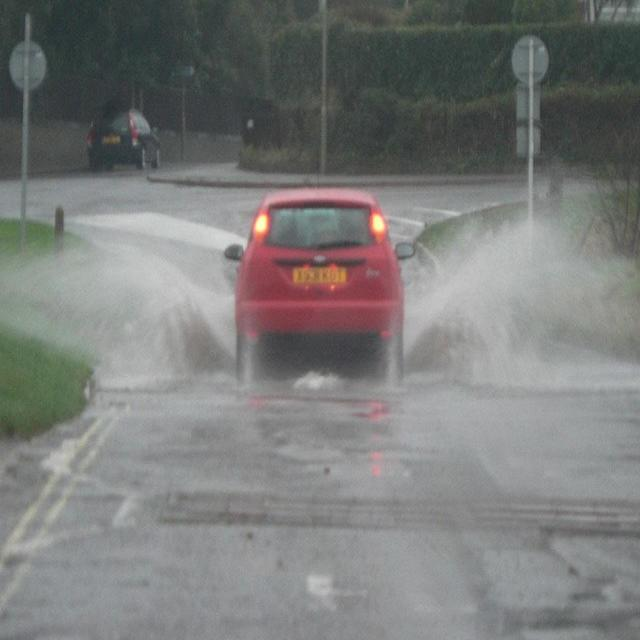car: (232, 190, 404, 391), (87, 105, 161, 172)
